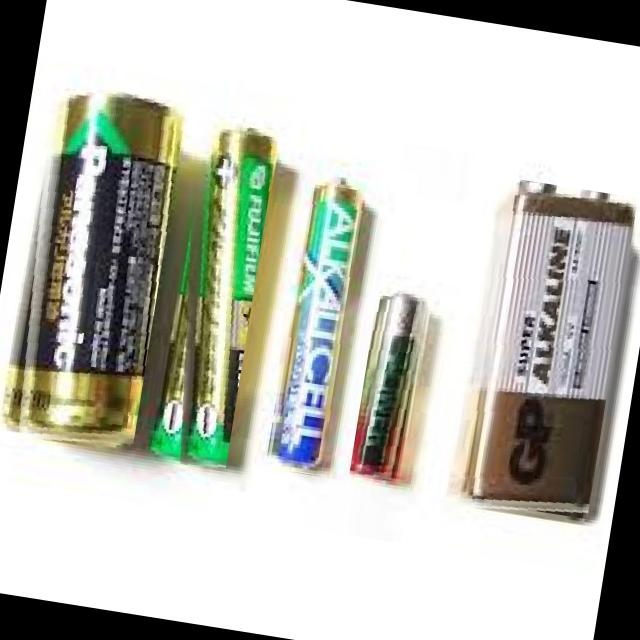Hazard: (0, 81, 187, 456), (446, 176, 638, 528), (142, 116, 279, 472), (262, 170, 369, 478), (349, 284, 431, 488)
